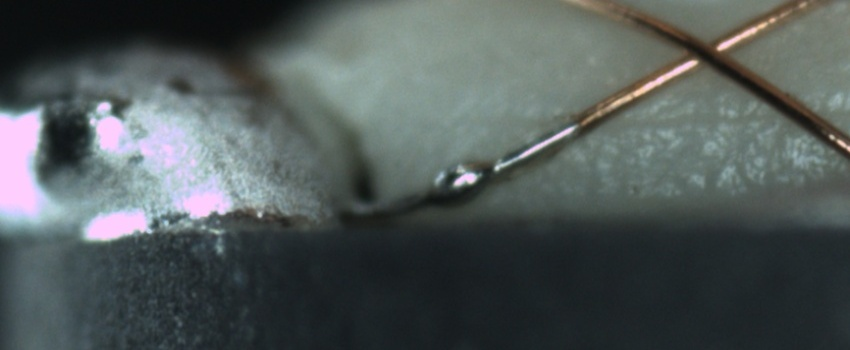CL: (659, 17, 748, 81)
DL: (469, 91, 850, 152)
TB: (429, 159, 497, 213)
TS: (350, 118, 582, 219)
TTCW: (341, 91, 629, 219)
